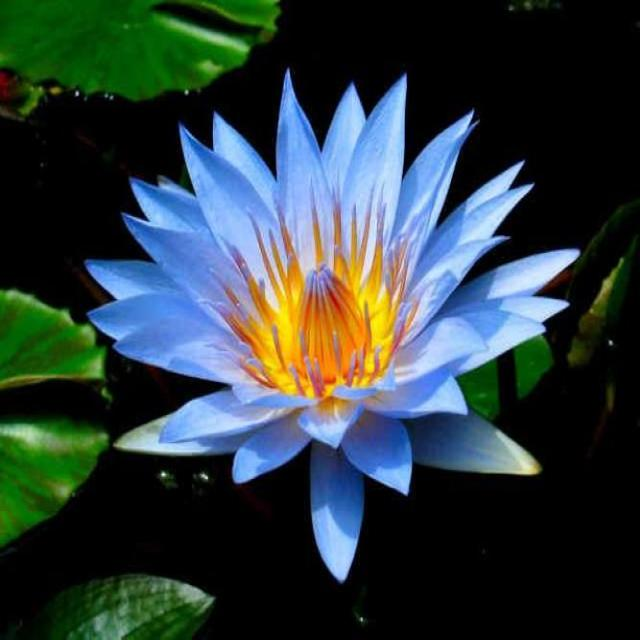water-lily: (49, 70, 610, 597)
